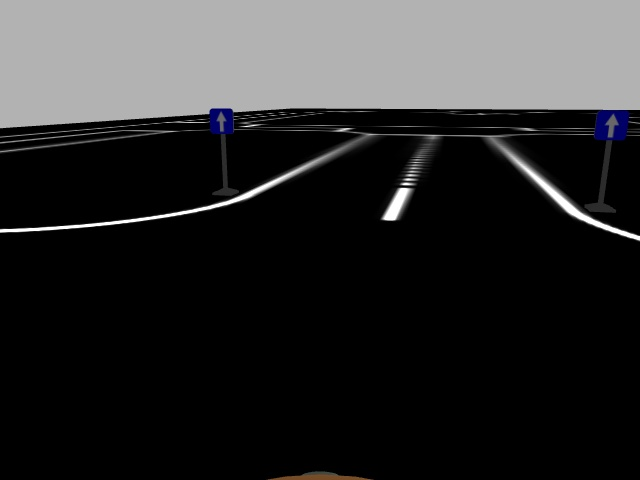oneway: (595, 108, 628, 145), (207, 106, 236, 137)
